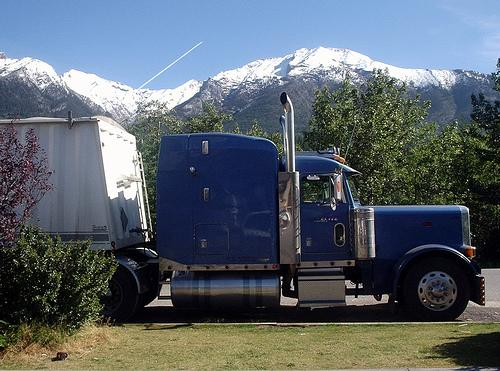truck: (0, 91, 486, 321)
